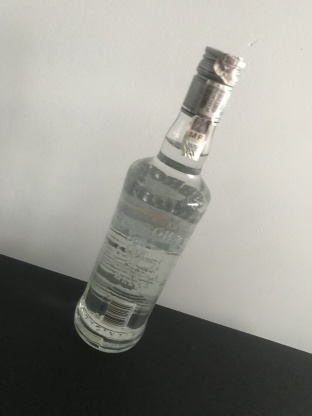nakretka: (179, 44, 247, 128)
